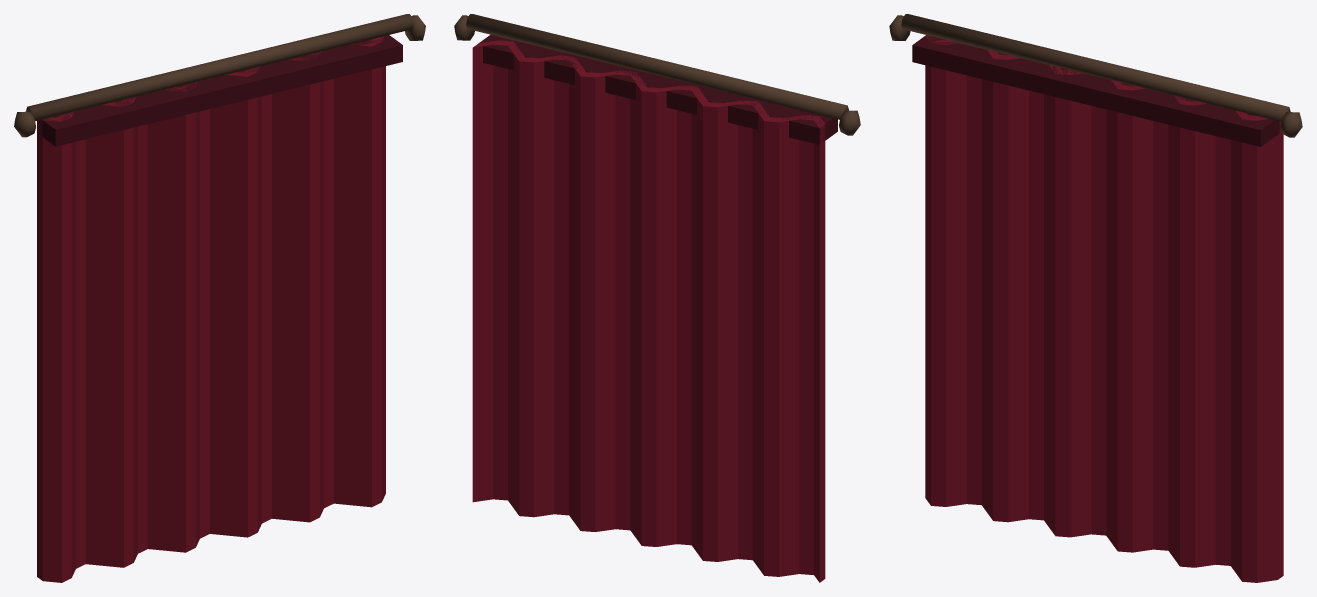
File: curtain.glb
The picture shows the model from 3 angles, left to right: view 1: azimuth 30°, elevation 25°; view 2: azimuth 150°, elevation 25°; view 3: azimuth 330°, elevation 25°; orthographic projection.
Visible parts, largest first — view 1: curtain; view 2: curtain; view 3: curtain.
Part boxes in pixels (<box>): curtain: <box>14,14,425,582</box>; curtain: <box>454,14,860,582</box>; curtain: <box>889,14,1302,582</box>.
Size of the model in its own units: 1.02 by 1.14 by 0.1085.
